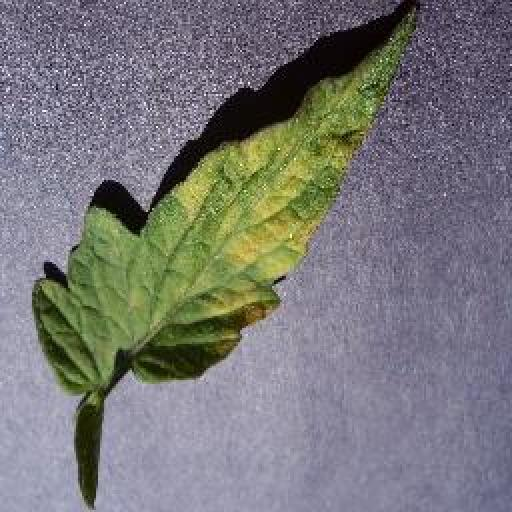Leaf Mold: (35, 4, 424, 389)
